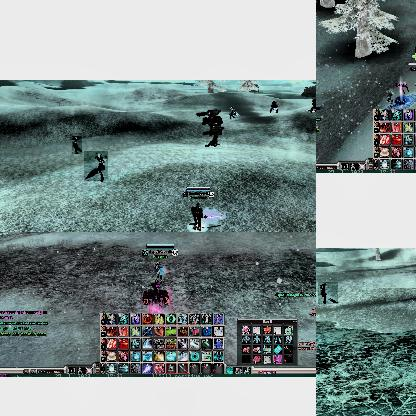caliana: (84, 151, 108, 181), (318, 282, 338, 304), (72, 136, 82, 154), (316, 0, 319, 12)
